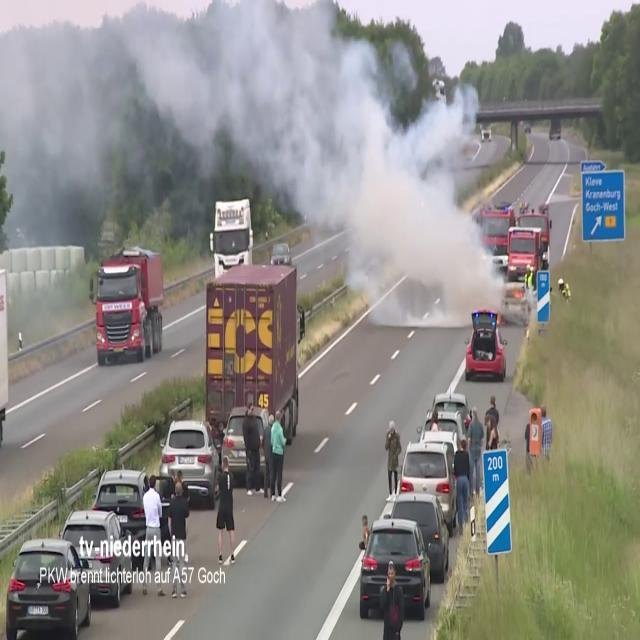Smoke: (1, 0, 503, 281)
